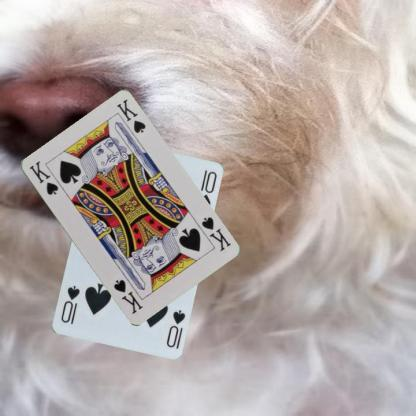10s: (164, 307, 186, 348)
Ks: (26, 158, 60, 196), (198, 214, 232, 252)
